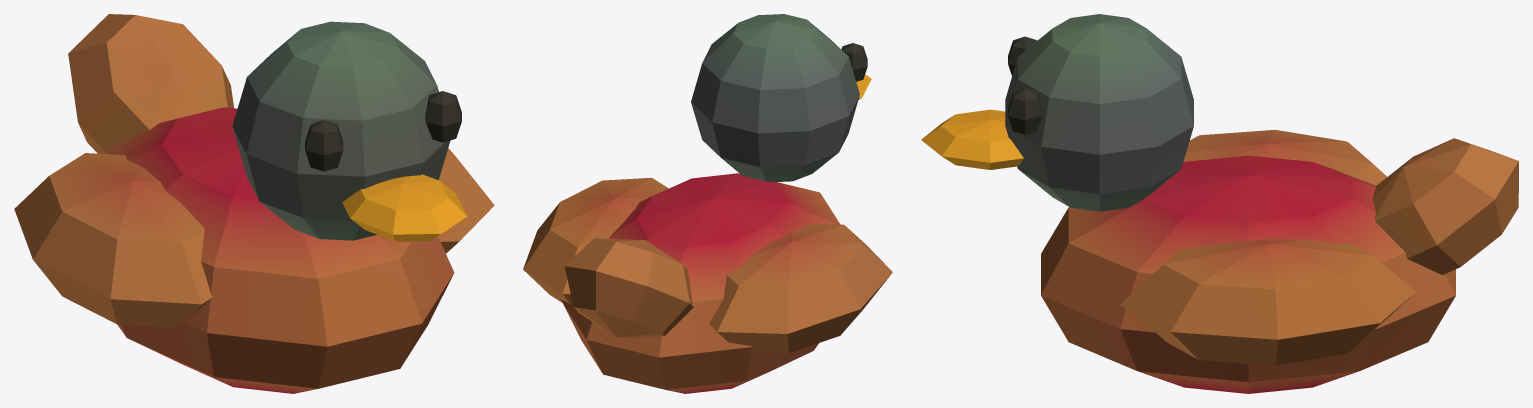
File: Duck_02.glb
The picture shows the model from 3 angles, left to right: view 1: azimuth 30°, elevation 25°; view 2: azimuth 150°, elevation 25°; view 3: azimuth 270°, elevation 25°; orthographic projection. The views are drawn at different scales.
Visible parts, largest first — view 1: Duck_02; view 2: Duck_02; view 3: Duck_02.
Part boxes in pixels (x1=…): Duck_02: x1=14, y1=14, x2=494, y2=393; Duck_02: x1=523, y1=14, x2=892, y2=393; Duck_02: x1=921, y1=14, x2=1518, y2=393.
Bounding box in the file's own units: 0.5488 × 0.4875 × 0.7532.
